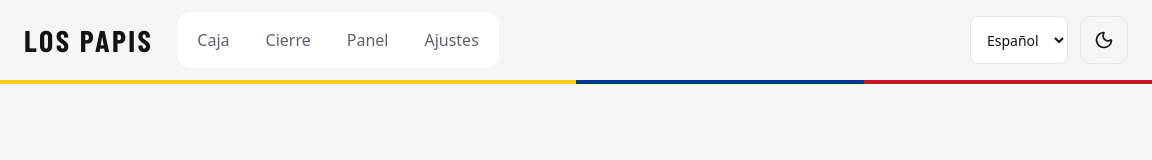
Test: AppHeader › al elegir italiano traduce las pestañas y actualiza <html lang>
Select "Italiano" in the dropdown named "Idioma" at (1019, 40), box [970,16,1068,64]
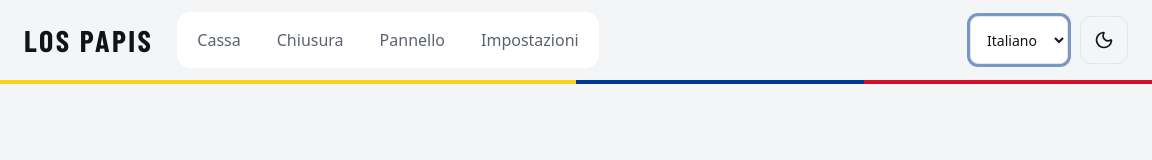
Now the links read "Cassa", "Chiusura", "Pannello", "Impostazioni", in this order, box [197,29,241,51]; [277,29,344,51]; [380,29,445,51]; [481,29,579,51]
